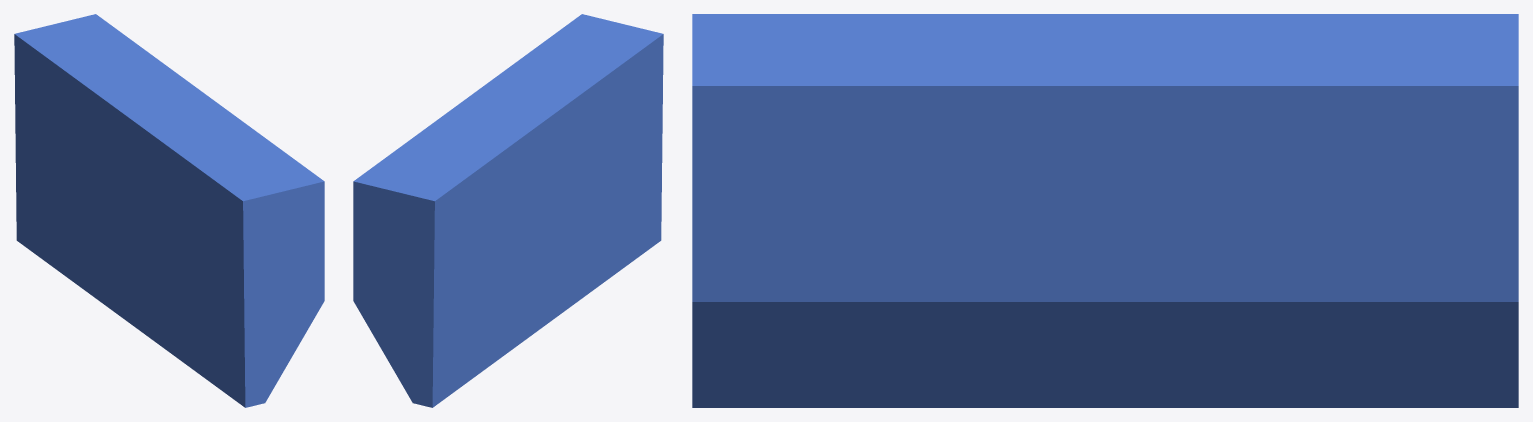
The model's file is TopWindow_Straight_1_Collision.fbx.
3 renders of one model, left to right at view 1: azimuth 30°, elevation 25°; view 2: azimuth 150°, elevation 25°; view 3: azimuth 270°, elevation 25°, orthographic. The views are drawn at different scales.
Visible parts, largest first — view 1: TopWindow_Straight_1_Collision; view 2: TopWindow_Straight_1_Collision; view 3: TopWindow_Straight_1_Collision.
Boxes of the visible parts, left/top/right/bottom form: TopWindow_Straight_1_Collision: left=14, top=14, right=324, bottom=407; TopWindow_Straight_1_Collision: left=353, top=14, right=663, bottom=407; TopWindow_Straight_1_Collision: left=692, top=14, right=1518, bottom=407.
Size of the model in its own units: 82.37 by 200 by 400.
